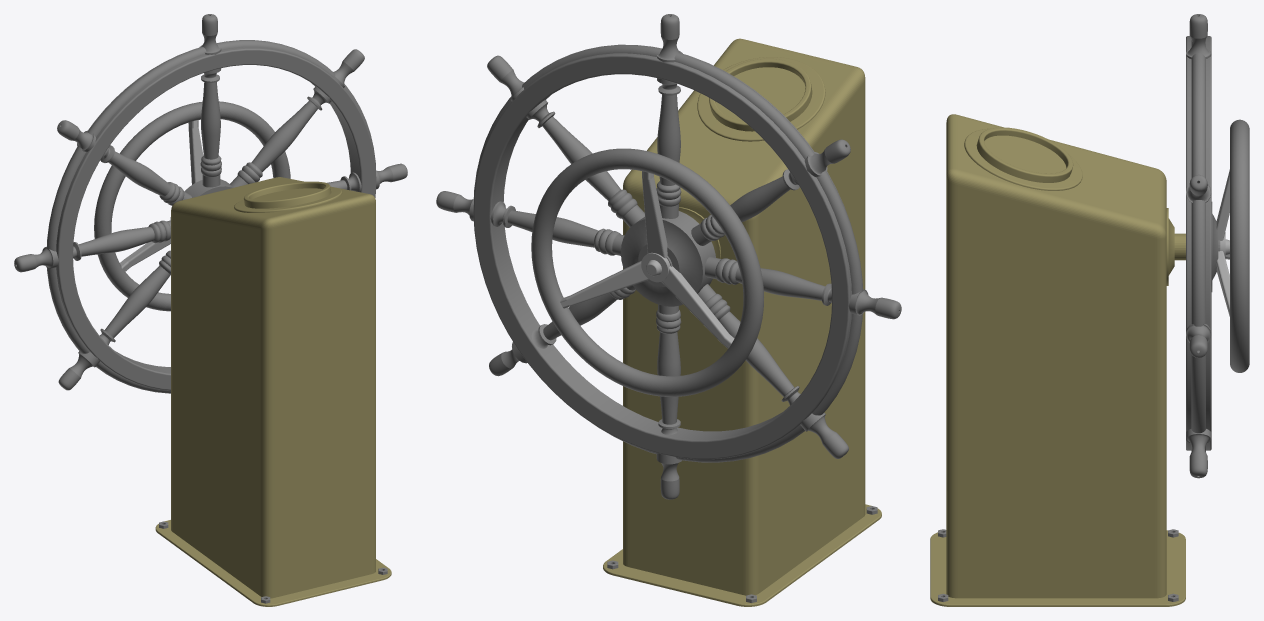
File: rudden1.FBX
3 views of the same model, side by side, from view 1: azimuth 30°, elevation 25°; view 2: azimuth 150°, elevation 25°; view 3: azimuth 270°, elevation 25° (orthographic). The views are drawn at different scales.
Parts seen in each view (by area): view 1: Box2131636738, Circle018, Circle019, Circle017, Line1789529702, Line1789529697, Rectangle274896717, Line1789529695, Line1789529701, Line1789529699, Cylinder308, Line1789529696 (+3 smaller); view 2: Box2131636738, Circle018, Circle019, Circle017, Cylinder305, Rectangle274896717, Cylinder308, Line1789529702, Line1789529695, Line1789529697, Line1789529701, Line1789529696 (+8 smaller); view 3: Box2131636738, Circle019, Circle017, Rectangle274896717, Circle018, Cylinder308, Cylinder307, Line1789529700, Cylinder309, Line1789529697, Line1789529696, Line1789529702 (+3 smaller).
Boxes of the visible parts, left/top/right/bottom form: Box2131636738: left=171, top=177, right=375, bottom=598; Circle018: left=56, top=47, right=376, bottom=390; Circle019: left=94, top=101, right=290, bottom=311; Circle017: left=46, top=40, right=375, bottom=393; Line1789529702: left=230, top=49, right=364, bottom=187; Line1789529697: left=199, top=14, right=221, bottom=187; Rectangle274896717: left=155, top=520, right=391, bottom=606; Line1789529695: left=14, top=220, right=170, bottom=272; Line1789529701: left=58, top=250, right=170, bottom=390; Line1789529699: left=57, top=120, right=191, bottom=205; Cylinder308: left=243, top=181, right=331, bottom=208; Line1789529696: left=327, top=163, right=407, bottom=191; Box2131636738: left=623, top=38, right=865, bottom=595; Circle018: left=473, top=53, right=851, bottom=459; Circle019: left=531, top=148, right=763, bottom=396; Circle017: left=473, top=44, right=862, bottom=462; Cylinder305: left=620, top=211, right=715, bottom=306; Rectangle274896717: left=603, top=504, right=881, bottom=606; Cylinder308: left=709, top=58, right=812, bottom=131; Line1789529702: left=487, top=55, right=644, bottom=227; Line1789529695: left=705, top=256, right=901, bottom=319; Line1789529697: left=656, top=14, right=682, bottom=218; Line1789529701: left=697, top=284, right=848, bottom=458; Line1789529696: left=436, top=191, right=624, bottom=255; Box2131636738: left=946, top=114, right=1166, bottom=598; Circle019: left=1230, top=119, right=1249, bottom=372; Circle017: left=1191, top=39, right=1205, bottom=451; Rectangle274896717: left=930, top=530, right=1185, bottom=606; Circle018: left=1186, top=36, right=1211, bottom=450; Cylinder308: left=976, top=127, right=1073, bottom=182; Cylinder307: left=964, top=128, right=1082, bottom=190; Line1789529700: left=1186, top=429, right=1211, bottom=478; Cylinder309: left=1166, top=208, right=1185, bottom=285; Line1789529697: left=1186, top=14, right=1211, bottom=58; Line1789529696: left=1186, top=324, right=1211, bottom=357; Line1789529702: left=1186, top=174, right=1211, bottom=202.
Size of the model in its own units: 103 by 124 by 64.7.
